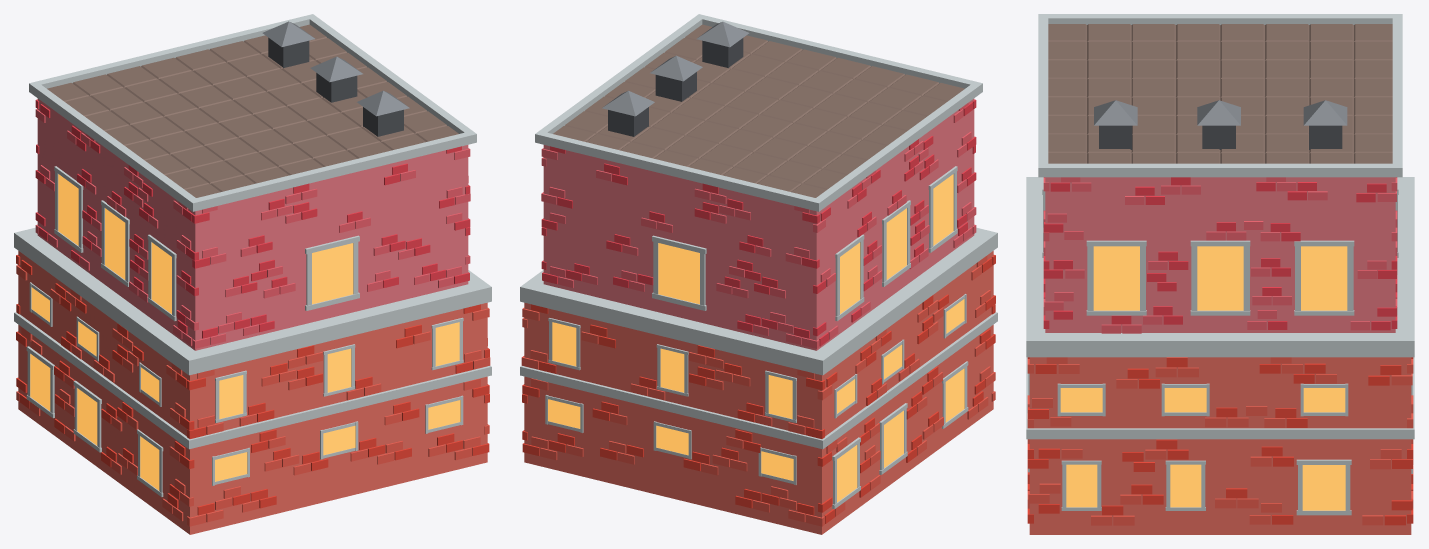
File: SM_House_16_B.fbx
The picture shows the model from 3 angles, left to right: view 1: azimuth 30°, elevation 25°; view 2: azimuth 150°, elevation 25°; view 3: azimuth 270°, elevation 25°; orthographic projection. The views are drawn at different scales.
Parts seen in each view (by area): view 1: SM_House_16_B_LOD0; view 2: SM_House_16_B_LOD0; view 3: SM_House_16_B_LOD0.
Boxes of the visible parts, x1,y1,x2,y2 form: SM_House_16_B_LOD0: (14, 14, 491, 534); SM_House_16_B_LOD0: (520, 14, 997, 534); SM_House_16_B_LOD0: (1026, 14, 1414, 534).
Size of the model in its own units: 809 by 809 by 917.
1 material, 1 textured.
